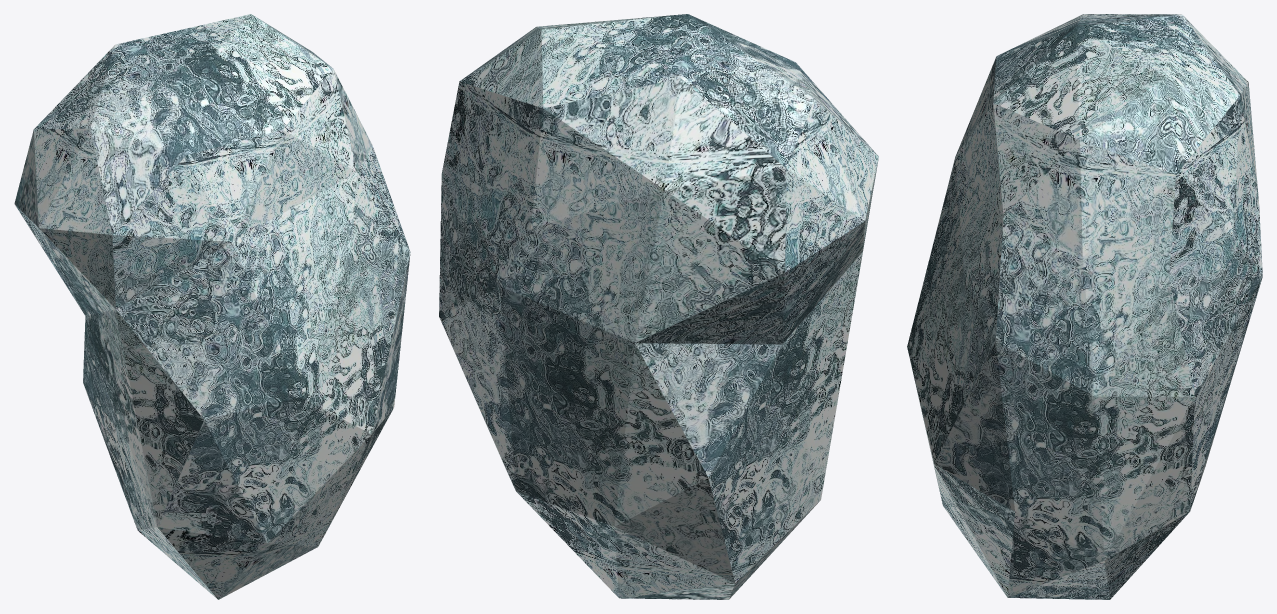
File: ITAT_ICEGOLEMHEART.glb
3 renders of one model, left to right at view 1: azimuth 30°, elevation 25°; view 2: azimuth 150°, elevation 25°; view 3: azimuth 270°, elevation 25°, orthographic. The views are drawn at different scales.
Parts seen in each view (by area): view 1: ITAT_ICEGOLEMHEART; view 2: ITAT_ICEGOLEMHEART; view 3: ITAT_ICEGOLEMHEART.
Boxes of the visible parts, <box> form: ITAT_ICEGOLEMHEART: <box>14,14,410,599</box>; ITAT_ICEGOLEMHEART: <box>439,14,878,599</box>; ITAT_ICEGOLEMHEART: <box>907,14,1262,599</box>.
Bounding box in the file's own units: 0.2162 × 0.3053 × 0.1735.
1 material, 1 textured.
